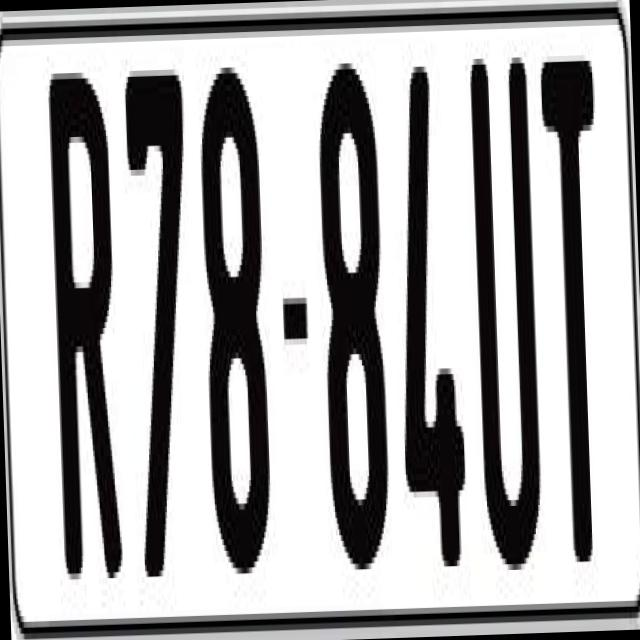4: (386, 53, 474, 591)
7: (124, 63, 198, 565)
8: (196, 55, 282, 598), (314, 44, 389, 564)
R: (44, 54, 120, 580)
T: (536, 60, 614, 562)
U: (469, 45, 547, 594)
